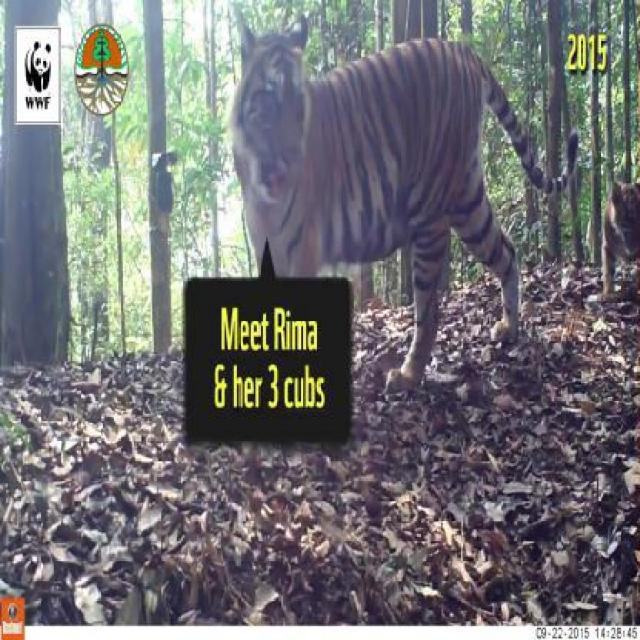Tiger: (204, 19, 548, 350), (596, 166, 638, 303)
